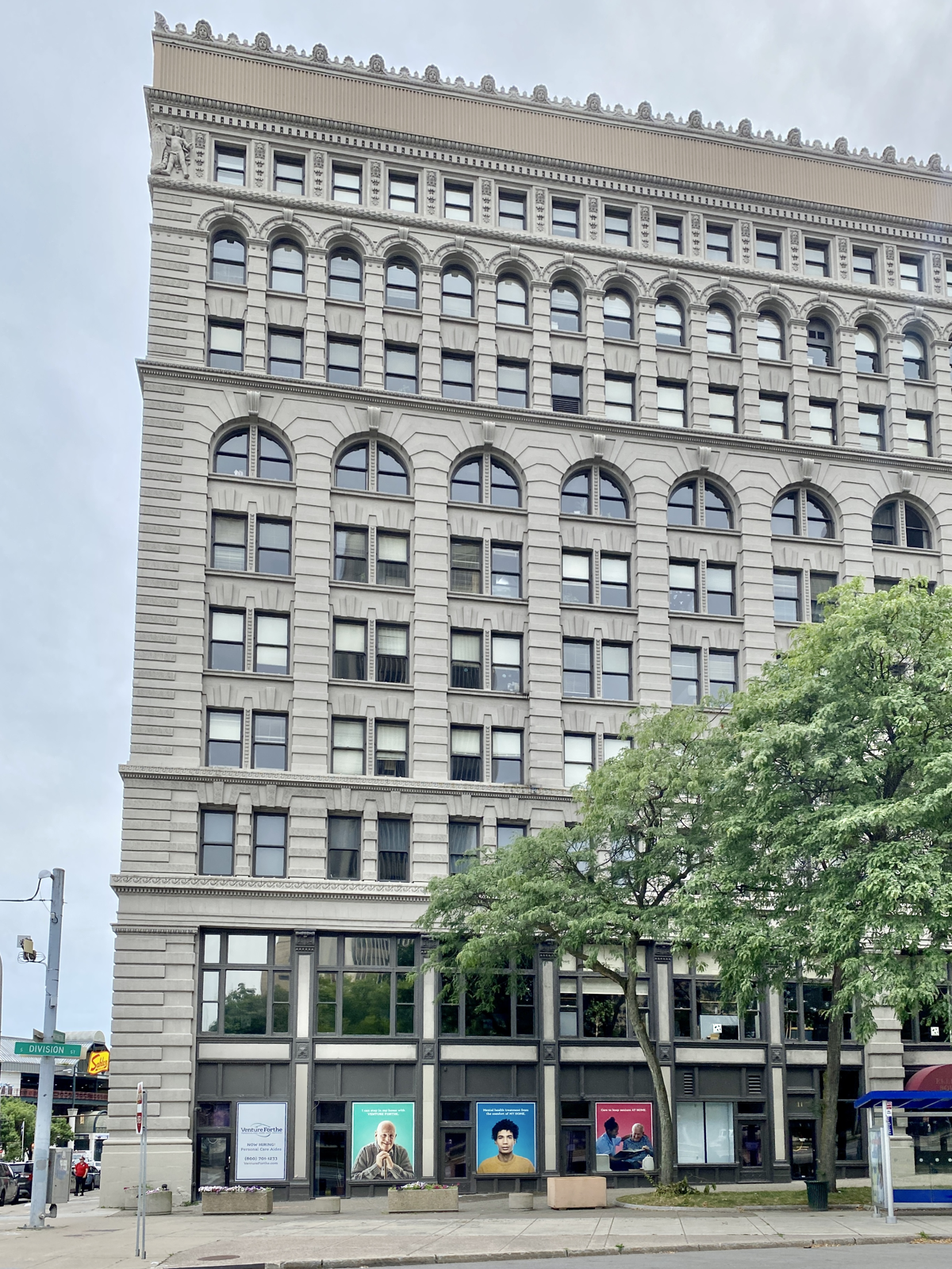fachada: (111, 24, 952, 1198)
poste: (12, 861, 95, 1229)
